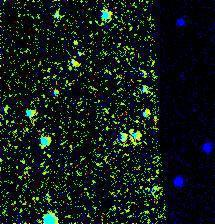star: (115, 116, 145, 146)
